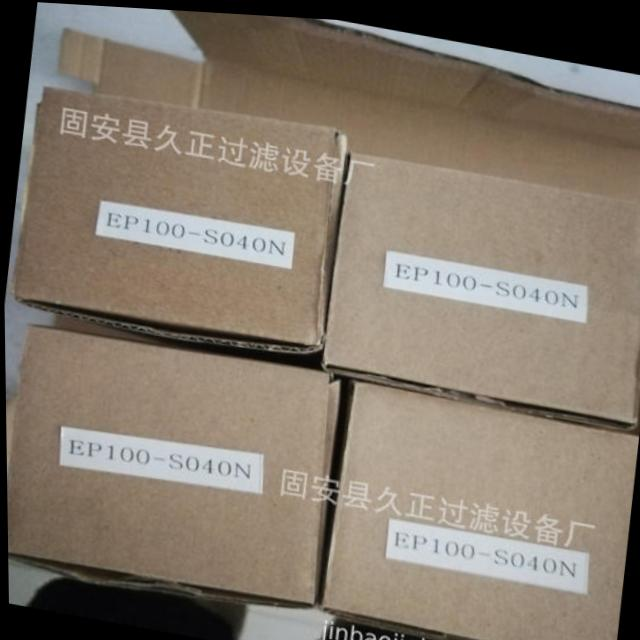box: (6, 323, 340, 605), (319, 149, 640, 425), (14, 87, 349, 346), (318, 373, 636, 640)
